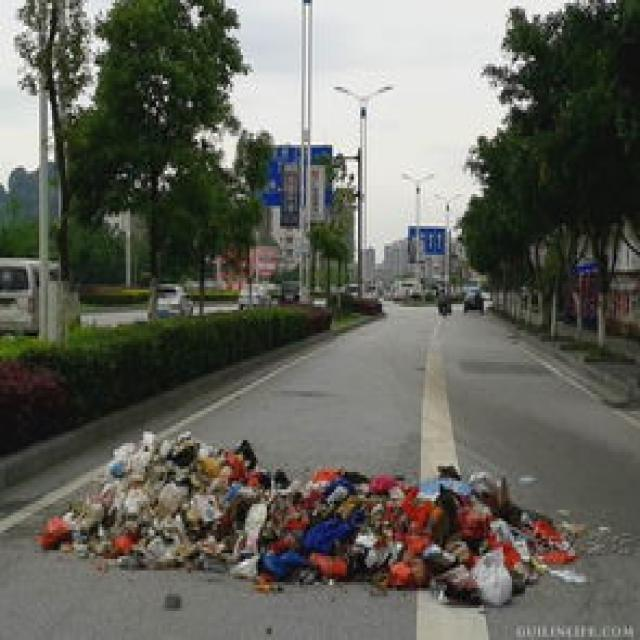garbage: (30, 411, 590, 611)
